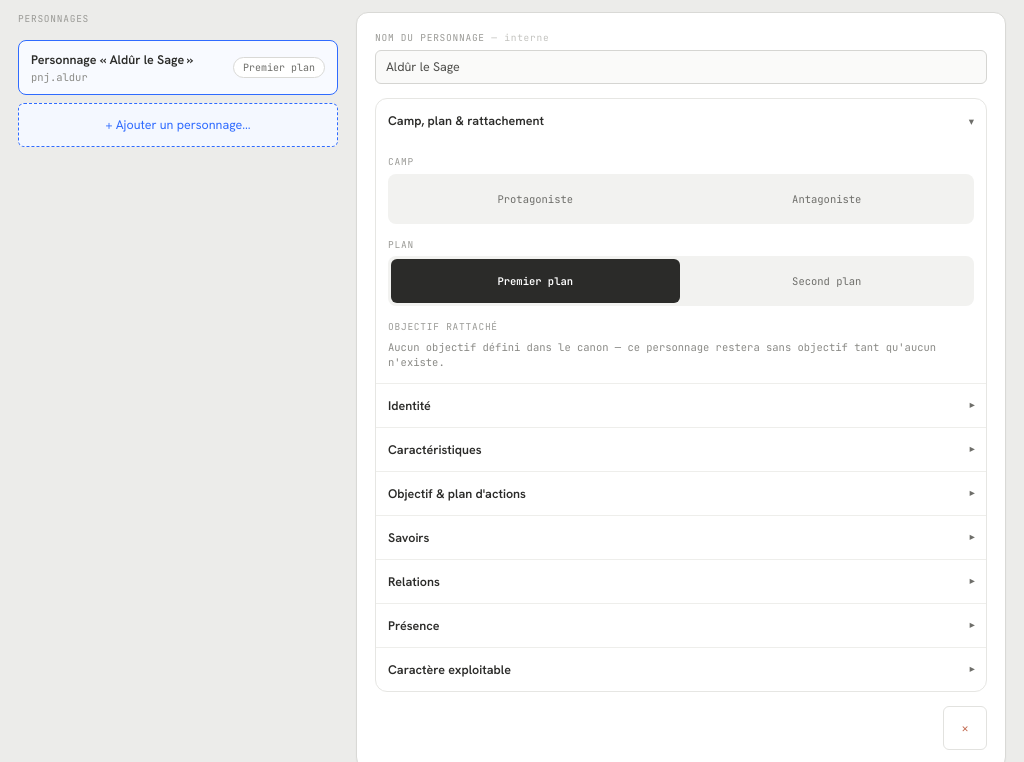
it: FichePersonnage - bloc Savoirs › avertissement revelation-sans-porte : allume, eteint, rallume
The image size is (1024, 762).
Check: the text "ENREGISTRÉ, AVEC AVERTISSEMENT" is not shown
Click the button "Savoirs ▾": (409, 537) [376,515,986,559]
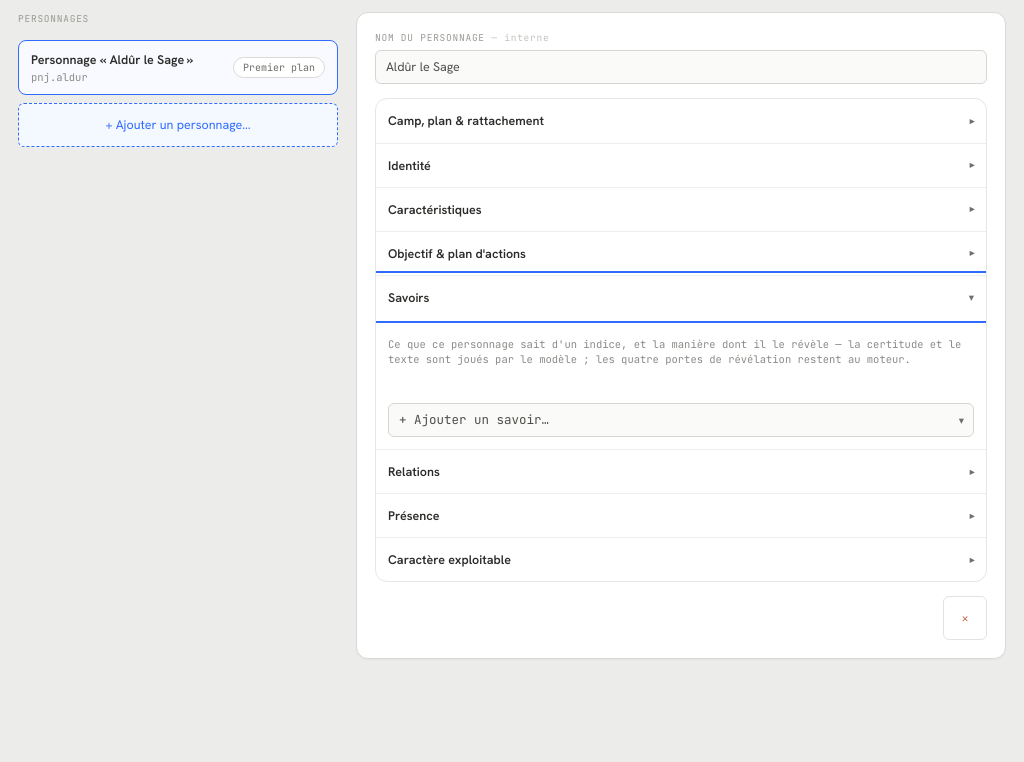
Select "Indice « Des pas dans la cendre »" in the dropdown named "Ajouter un savoir": (681, 420) [388,403,974,437]
(page scrolled)
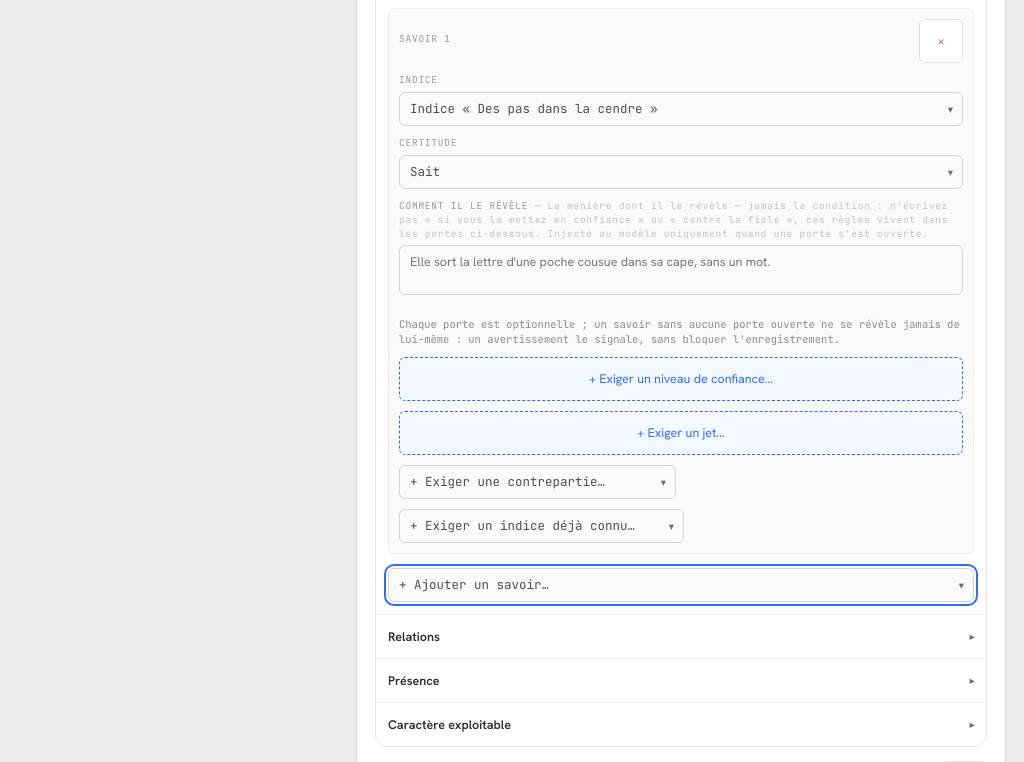
ETEINT — une porte ouverte suffit.
Click the button "+ Exiger un niveau de confiance…": (681, 379) [399,357,963,401]
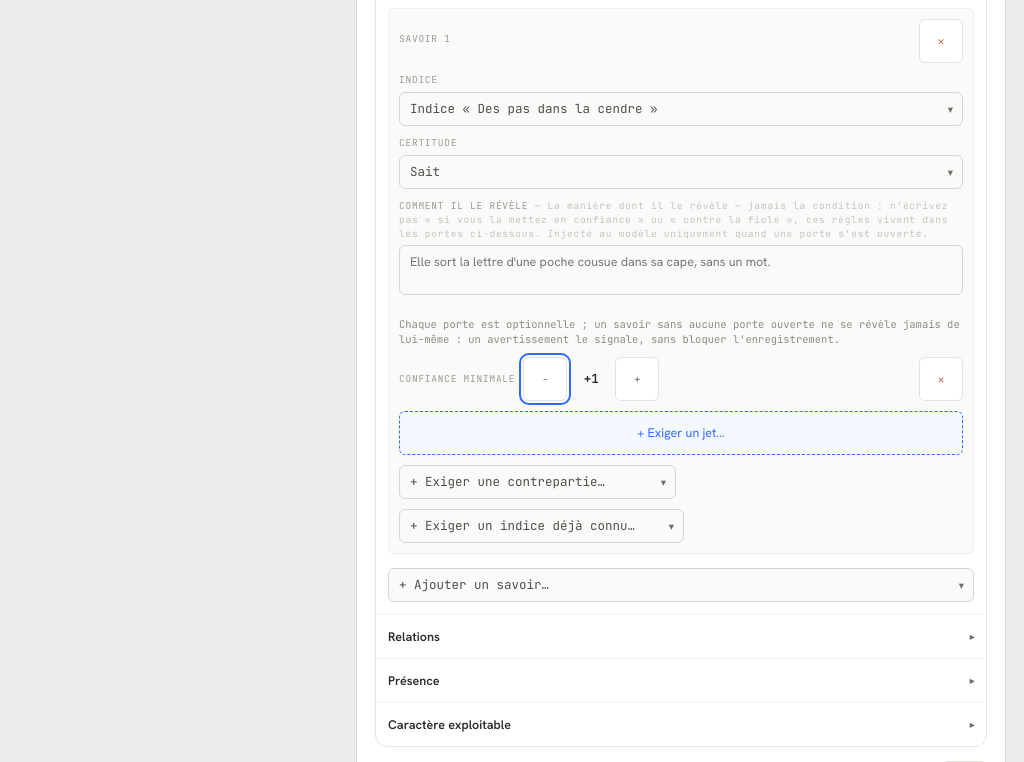
Check: the text "aucune condition de révélation" is not shown
RALLUME — la refermer rend le savoir muet a nouveau.
Click the button named "Retirer la porte de confiance": (941, 379) [919,357,963,401]
(page scrolled)
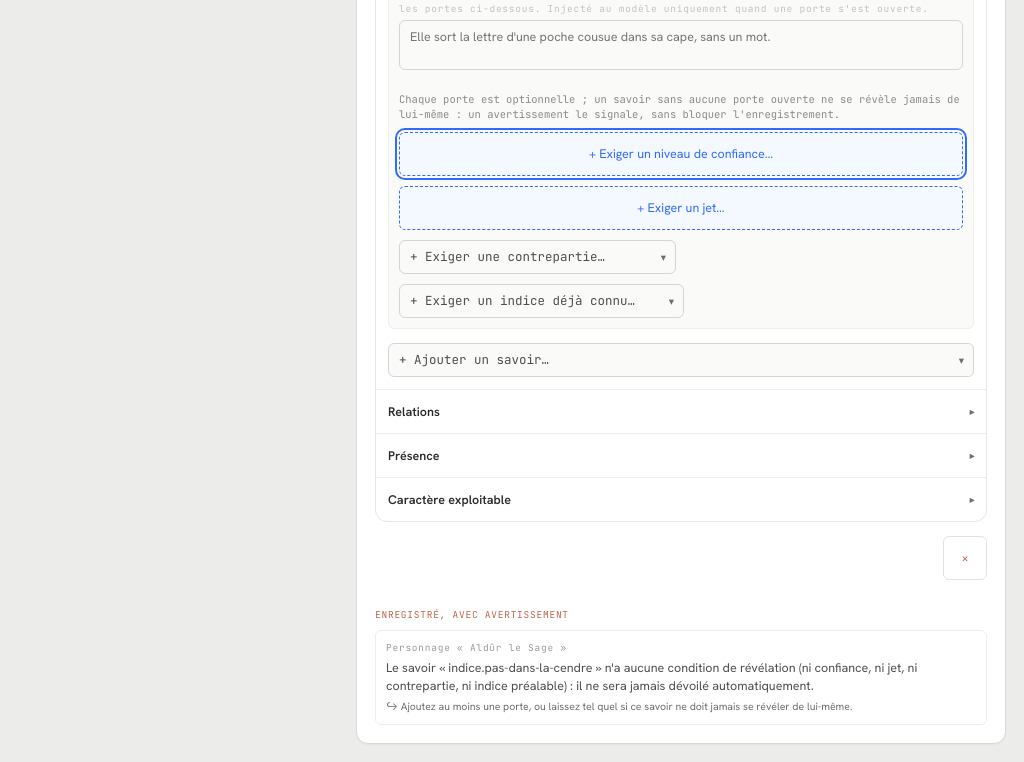
Check: the text "ENREGISTRÉ, AVEC AVERTISSEMENT" is shown, box [375,608,569,621]
Check: the text "aucune condition de révélation" is shown, box [386,659,917,694]
